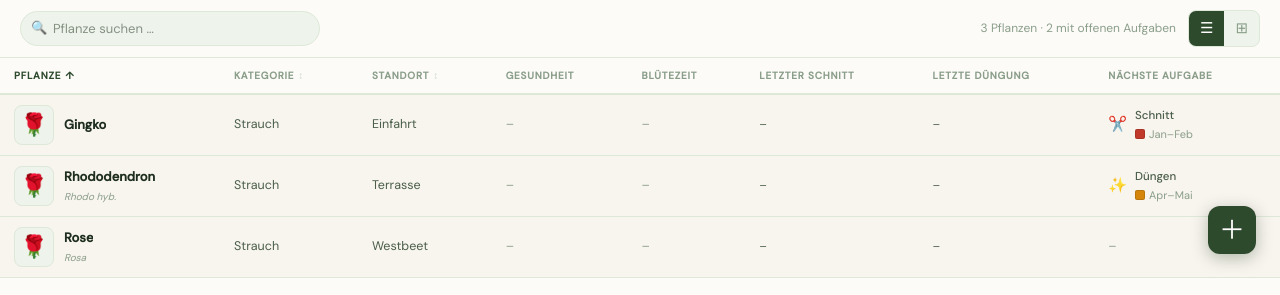
Test: PlantsView — search (AC #2) › filters by location
Expected: the number of rows with test id "plant-row" is 3, [0,94,1279,155]; [0,155,1279,216]; [0,216,1279,277]
In the field with test id "plants-search": x=170, y=28 [20,10,320,46], type "Einfahrt"
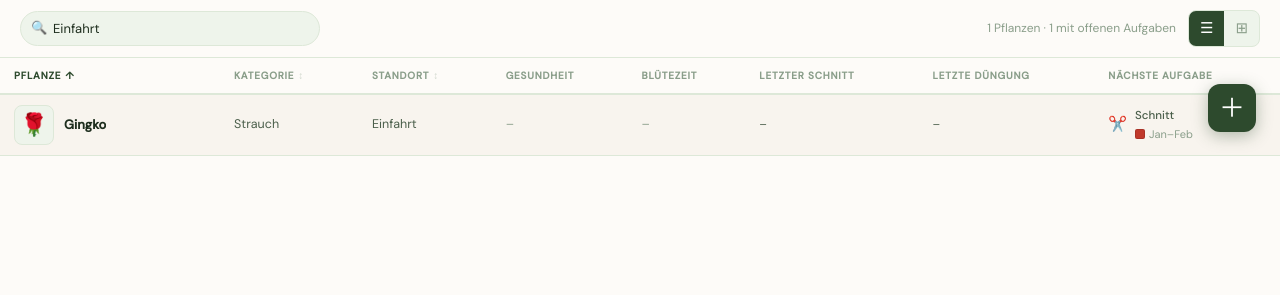
Expected: the text "Gingko" is shown, [64,115,106,134]
Now the number of rows with test id "plant-row" is 1, box [0,94,1279,155]
